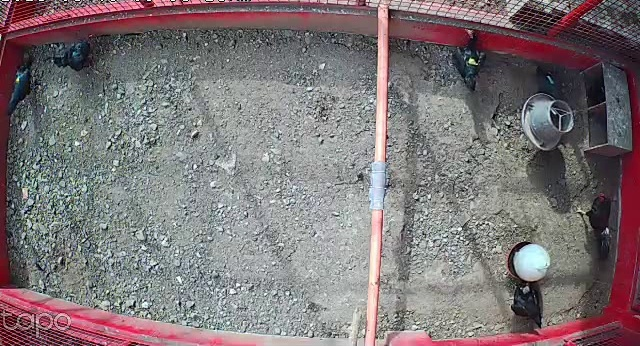Chicken: (3, 50, 39, 124), (451, 26, 489, 94), (41, 38, 100, 76), (506, 281, 544, 330), (536, 65, 572, 104)
Rooster: (574, 187, 614, 267)
Saddle_Color_Yellow: (463, 54, 483, 67)
Saddle_Color_YellowGreen: (15, 74, 24, 84)
